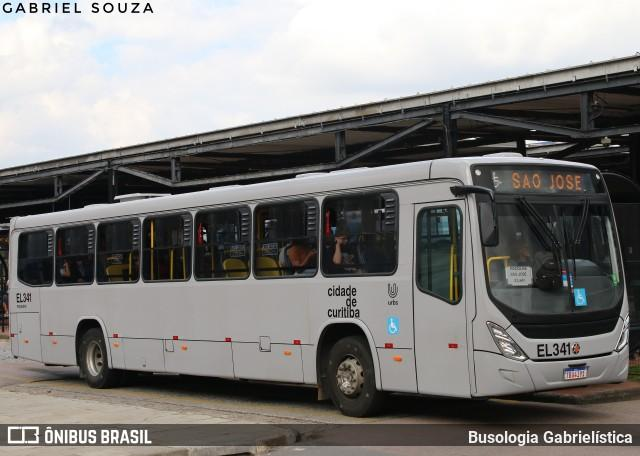SAO JOSE: (508, 169, 586, 194)
